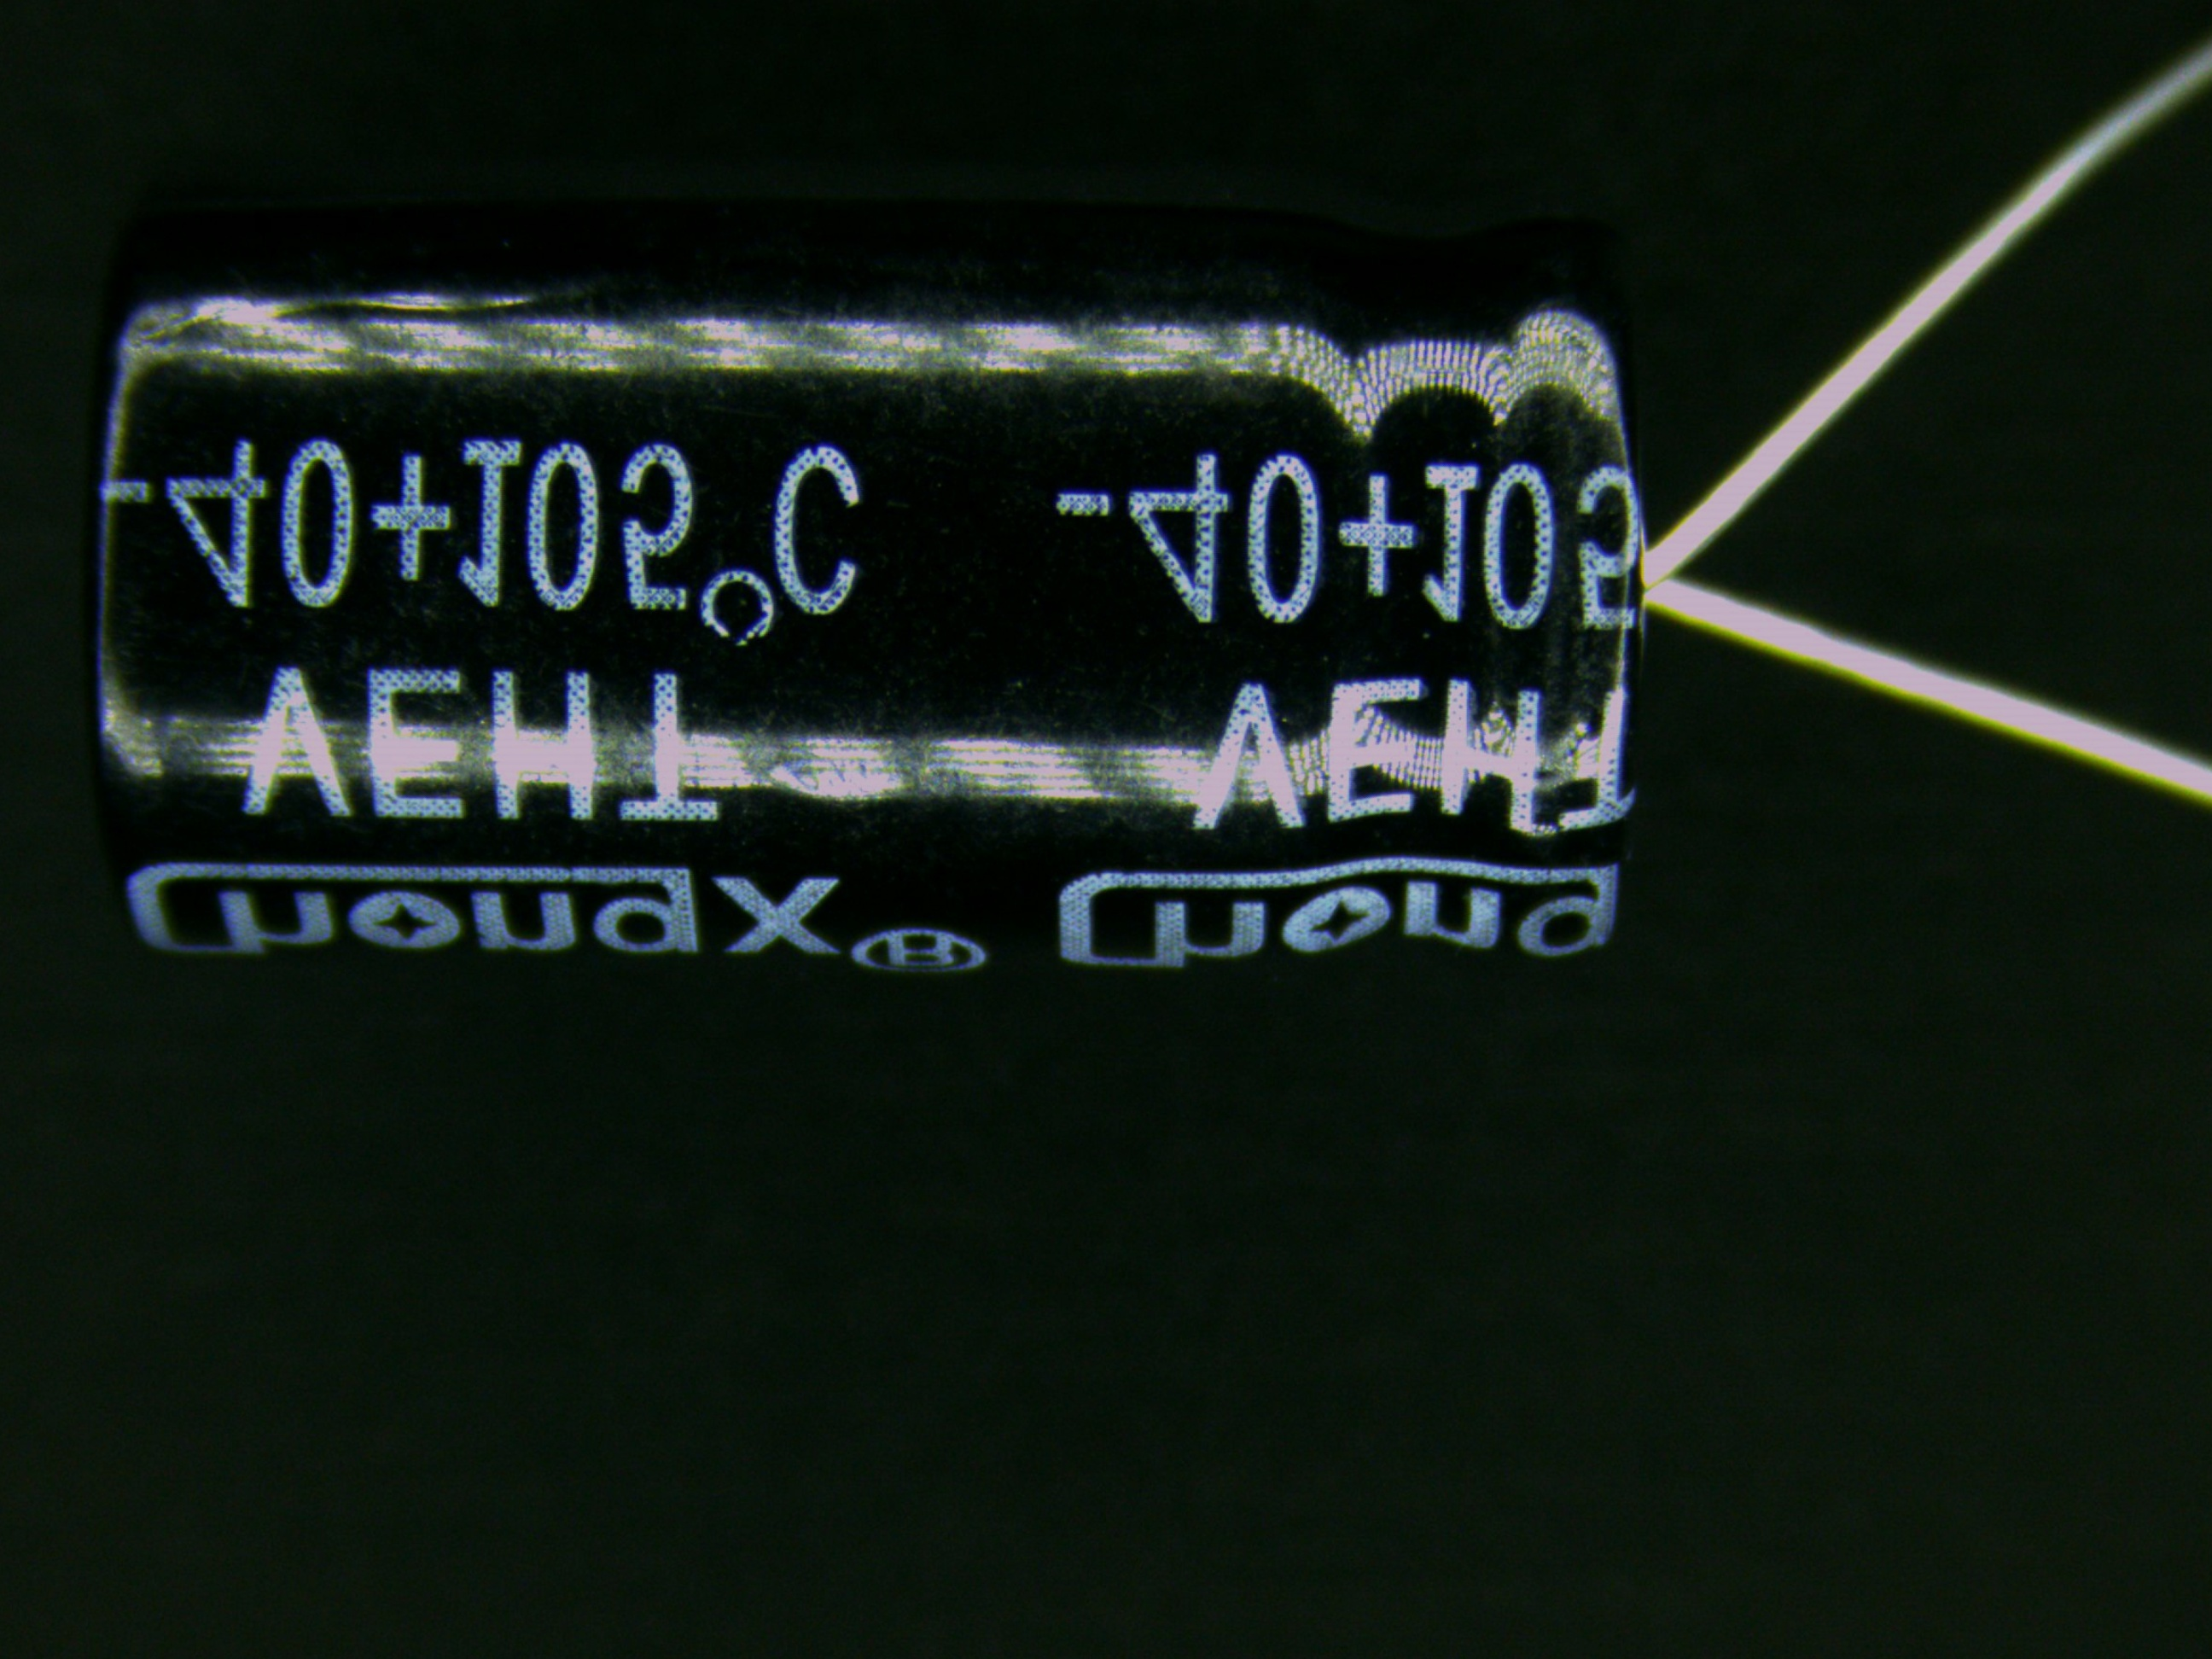c3: (80, 213, 1977, 969)
